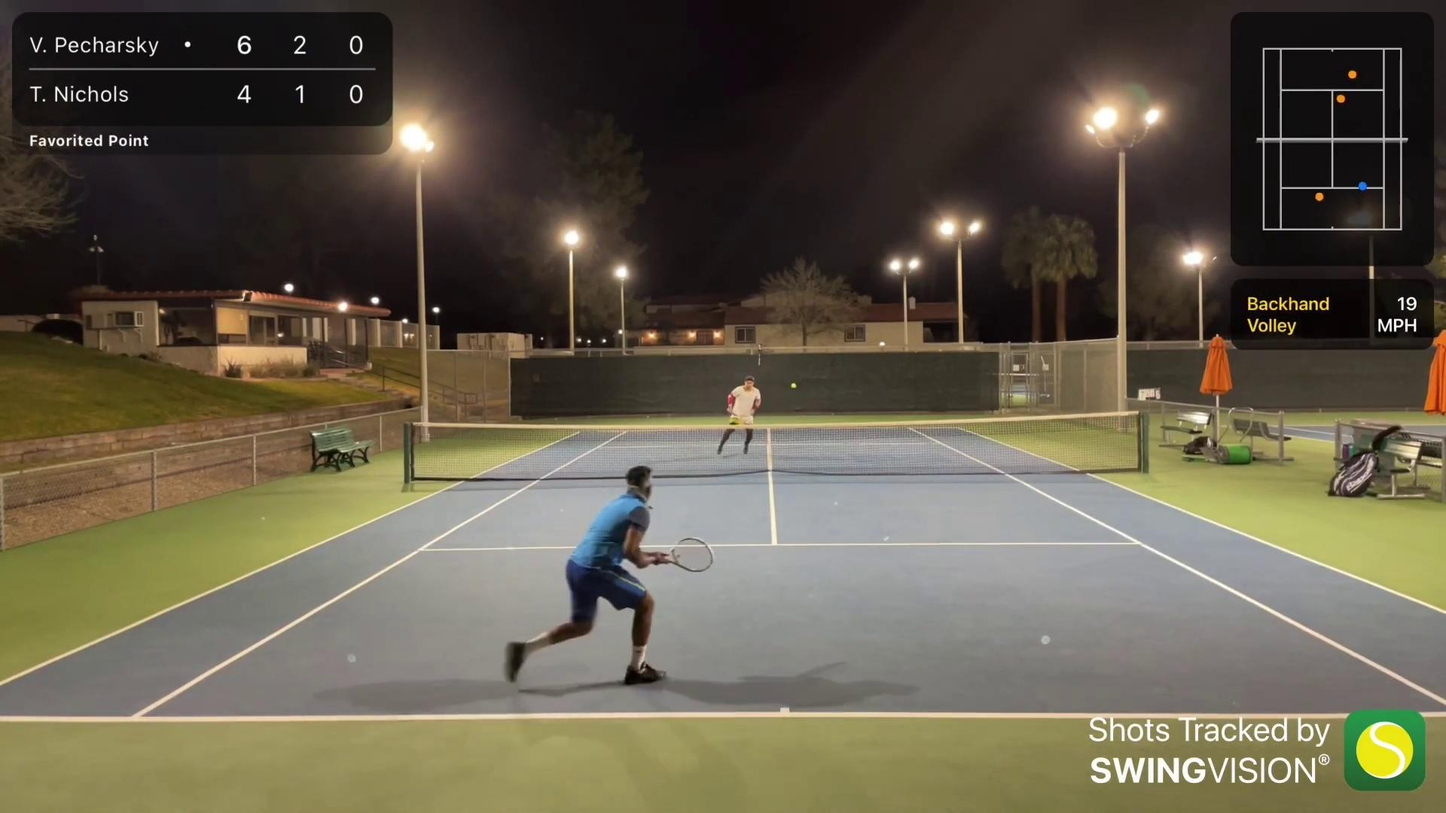ball: (791, 385, 796, 388)
